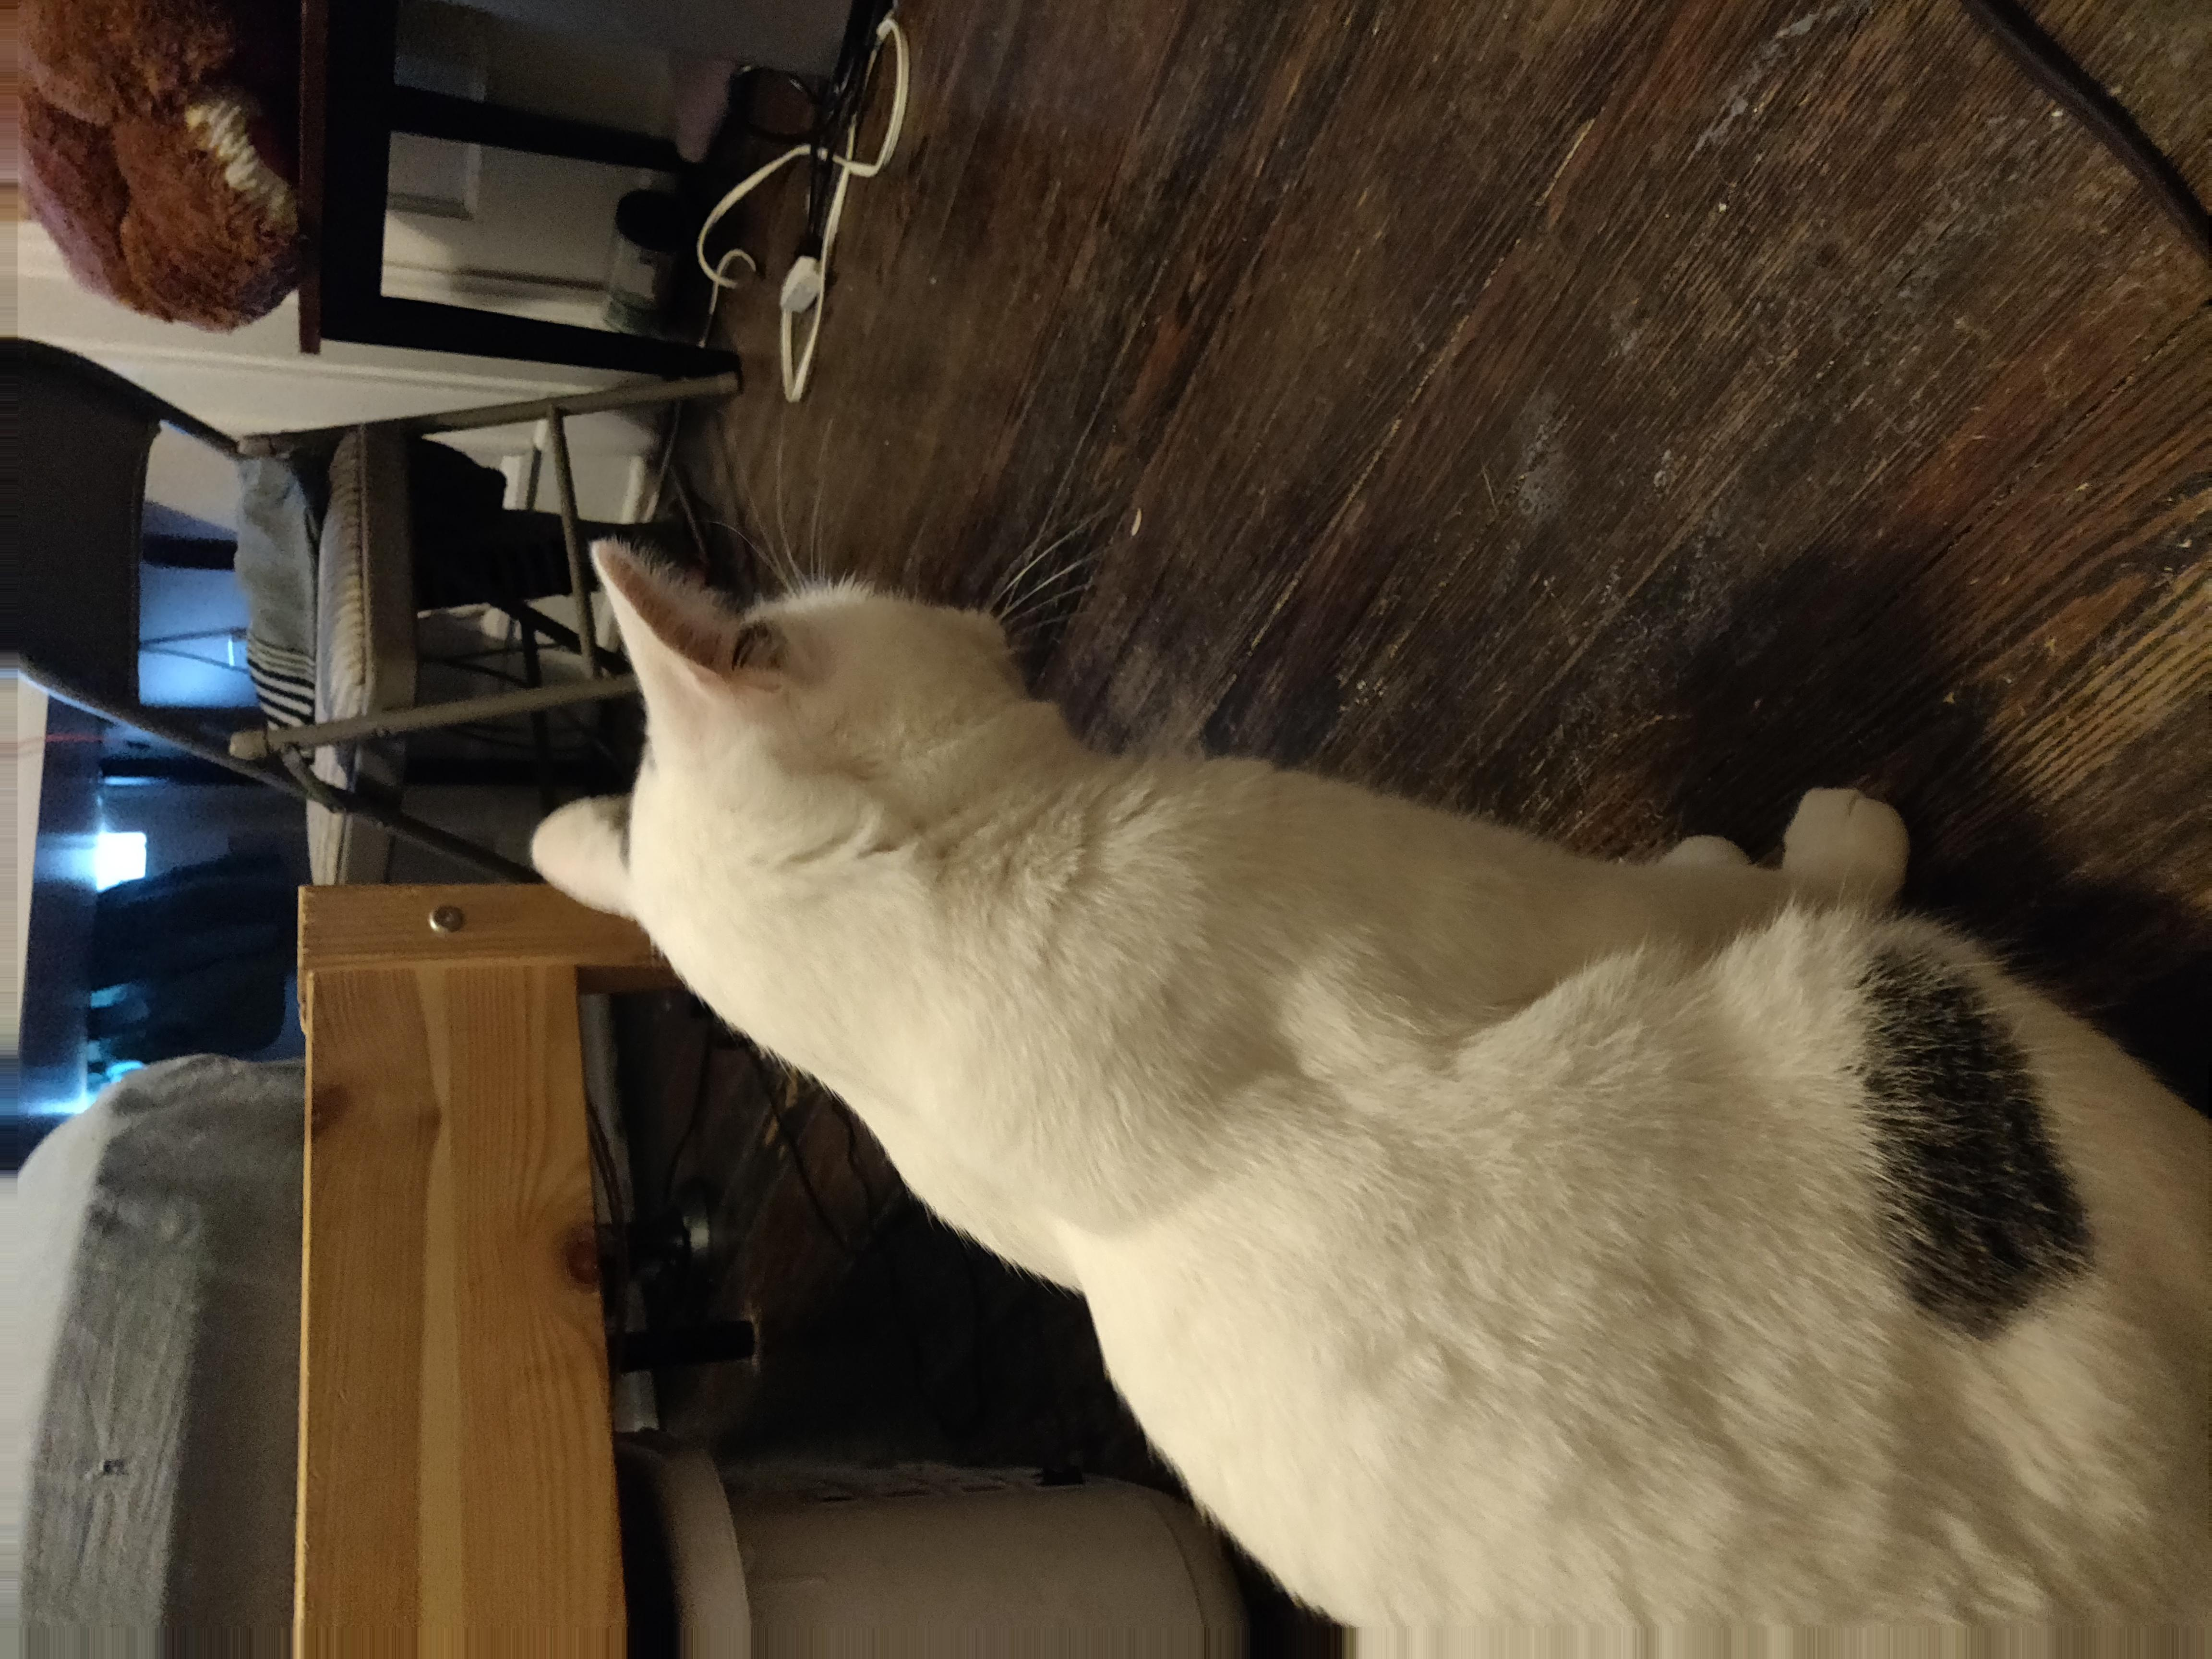cat: (553, 530, 2190, 1635)
